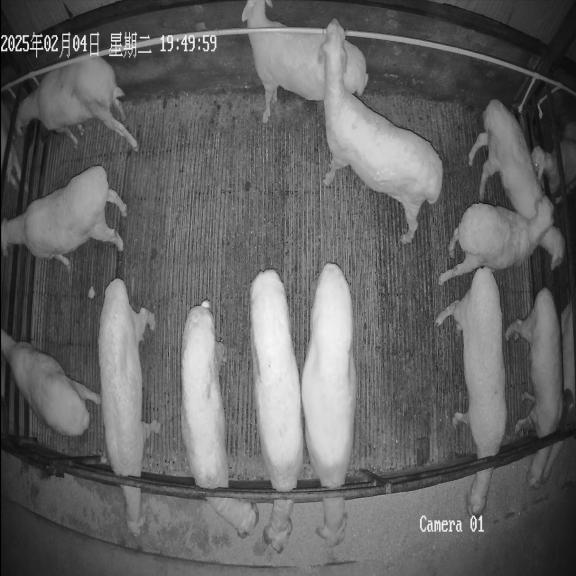drinking: (15, 57, 137, 149)
eating: (181, 300, 258, 537), (435, 268, 507, 515), (98, 278, 161, 536), (301, 263, 357, 547), (250, 270, 303, 553), (505, 288, 563, 486)
stand: (321, 19, 443, 243), (468, 99, 564, 269), (242, 0, 368, 123), (2, 166, 126, 269), (2, 332, 100, 435), (439, 196, 552, 284)
